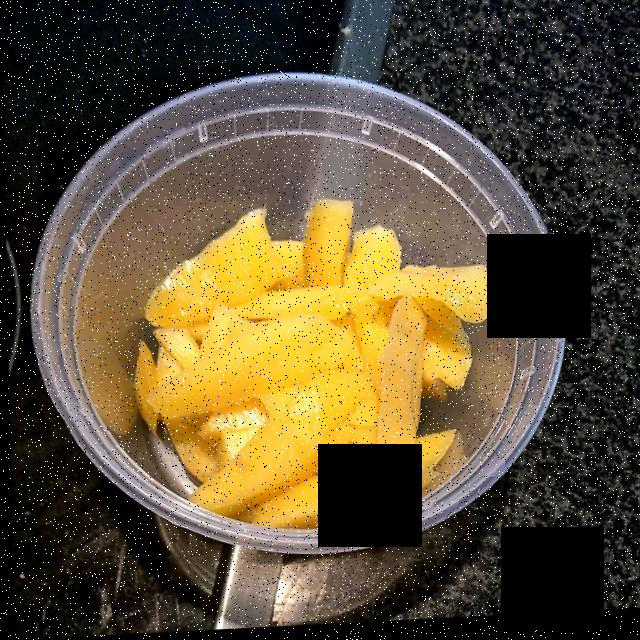mango: (130, 207, 492, 528)
